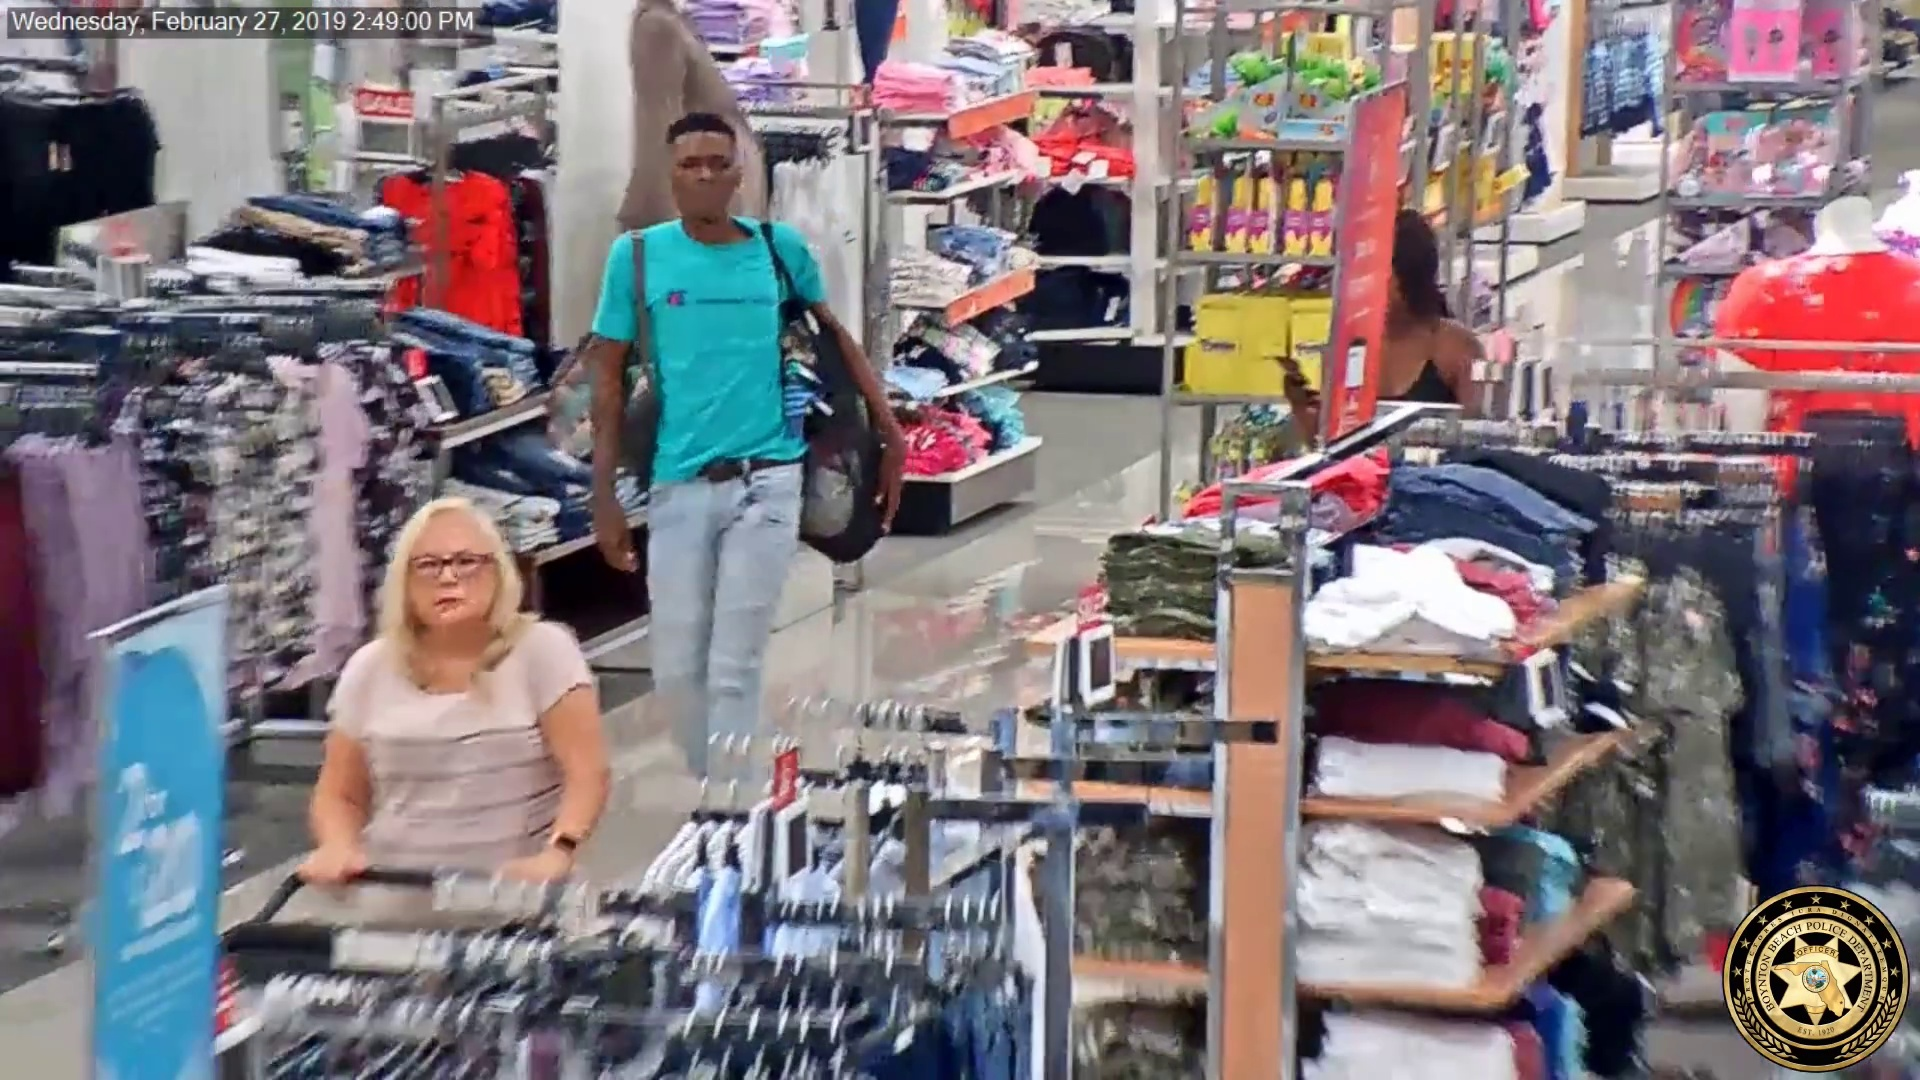face: (402, 524, 500, 631), (679, 131, 742, 207)
